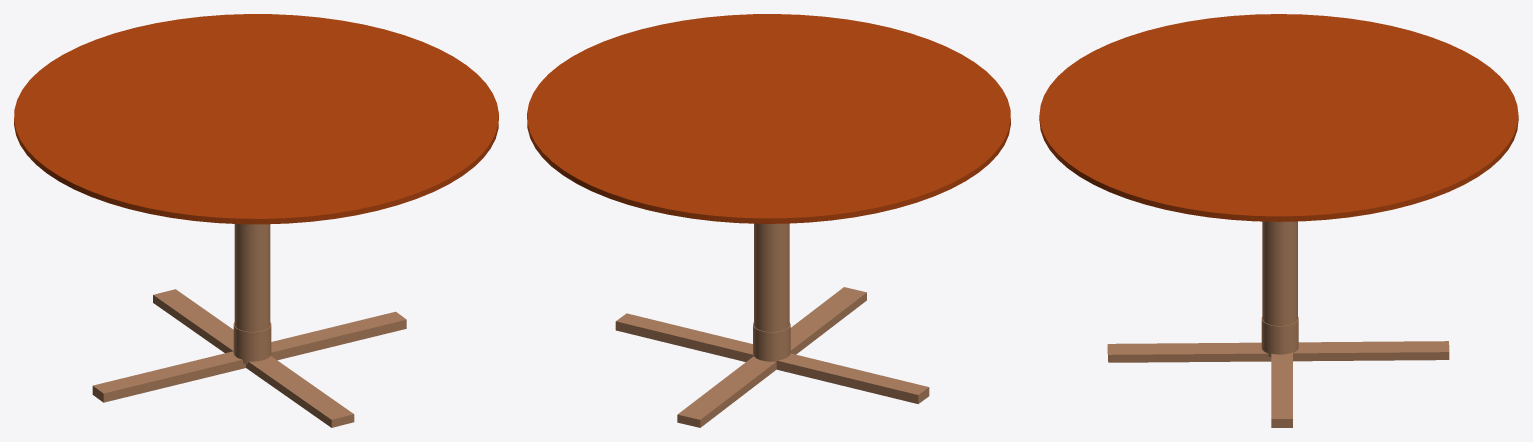
3 renders of one model, left to right at view 1: azimuth 30°, elevation 25°; view 2: azimuth 150°, elevation 25°; view 3: azimuth 270°, elevation 25°, orthographic.
Visible parts, largest first — view 1: pedestal_table; view 2: pedestal_table; view 3: pedestal_table.
Boxes of the visible parts, box(x1,y1,x2,y2) form: pedestal_table: box(14, 14, 498, 427); pedestal_table: box(527, 14, 1010, 427); pedestal_table: box(1039, 14, 1518, 427).
Size of the model in its own units: 1.2 by 0.6694 by 1.2.
